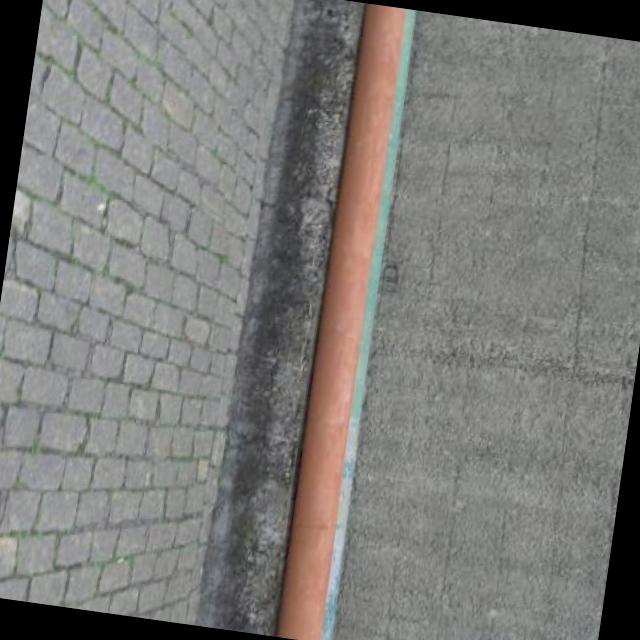gas: (275, 3, 406, 640)
